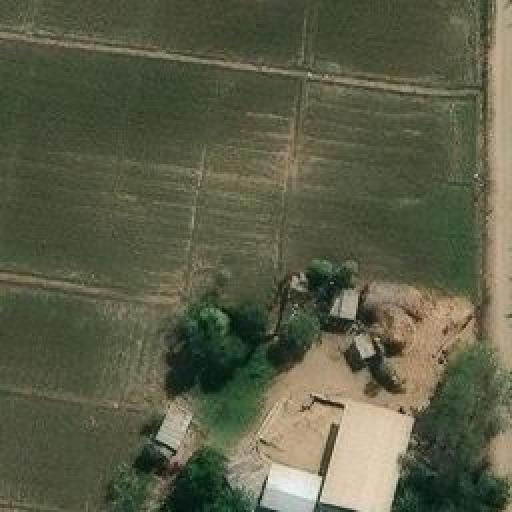manzanas: (135, 275, 479, 510)
